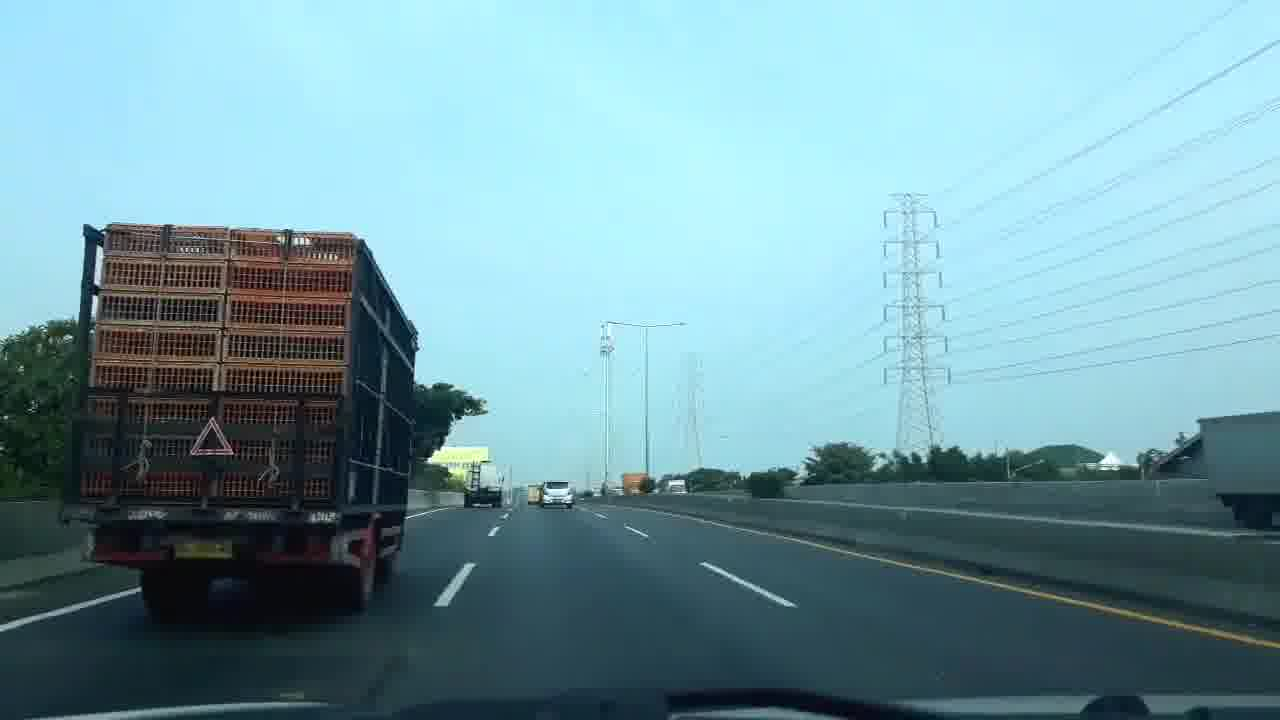plate_positive: (174, 538, 232, 559), (552, 500, 561, 504)
